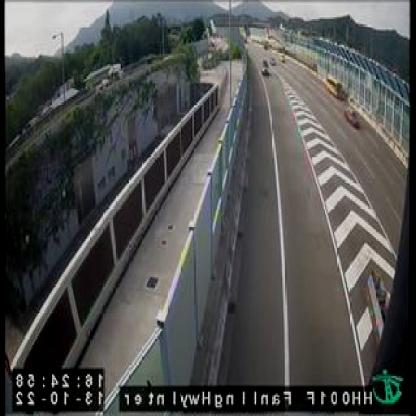Car: (346, 109, 362, 128)
